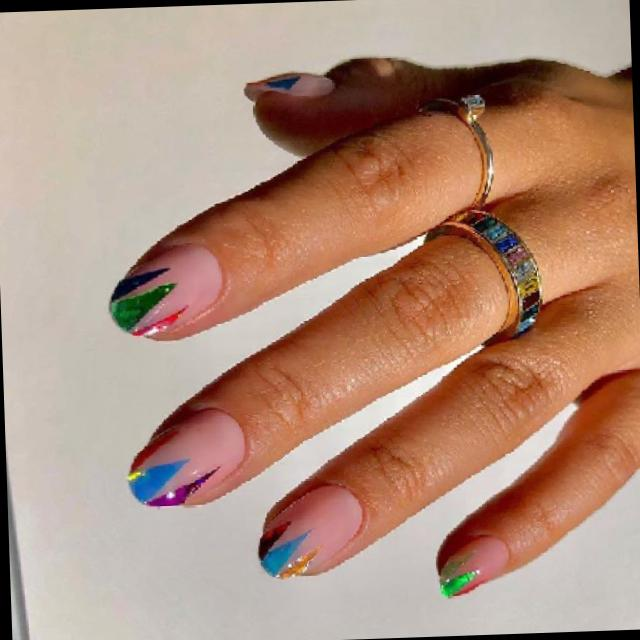Nail: (127, 407, 244, 506), (109, 244, 220, 333), (258, 483, 362, 576), (439, 536, 508, 595), (244, 74, 333, 97)
